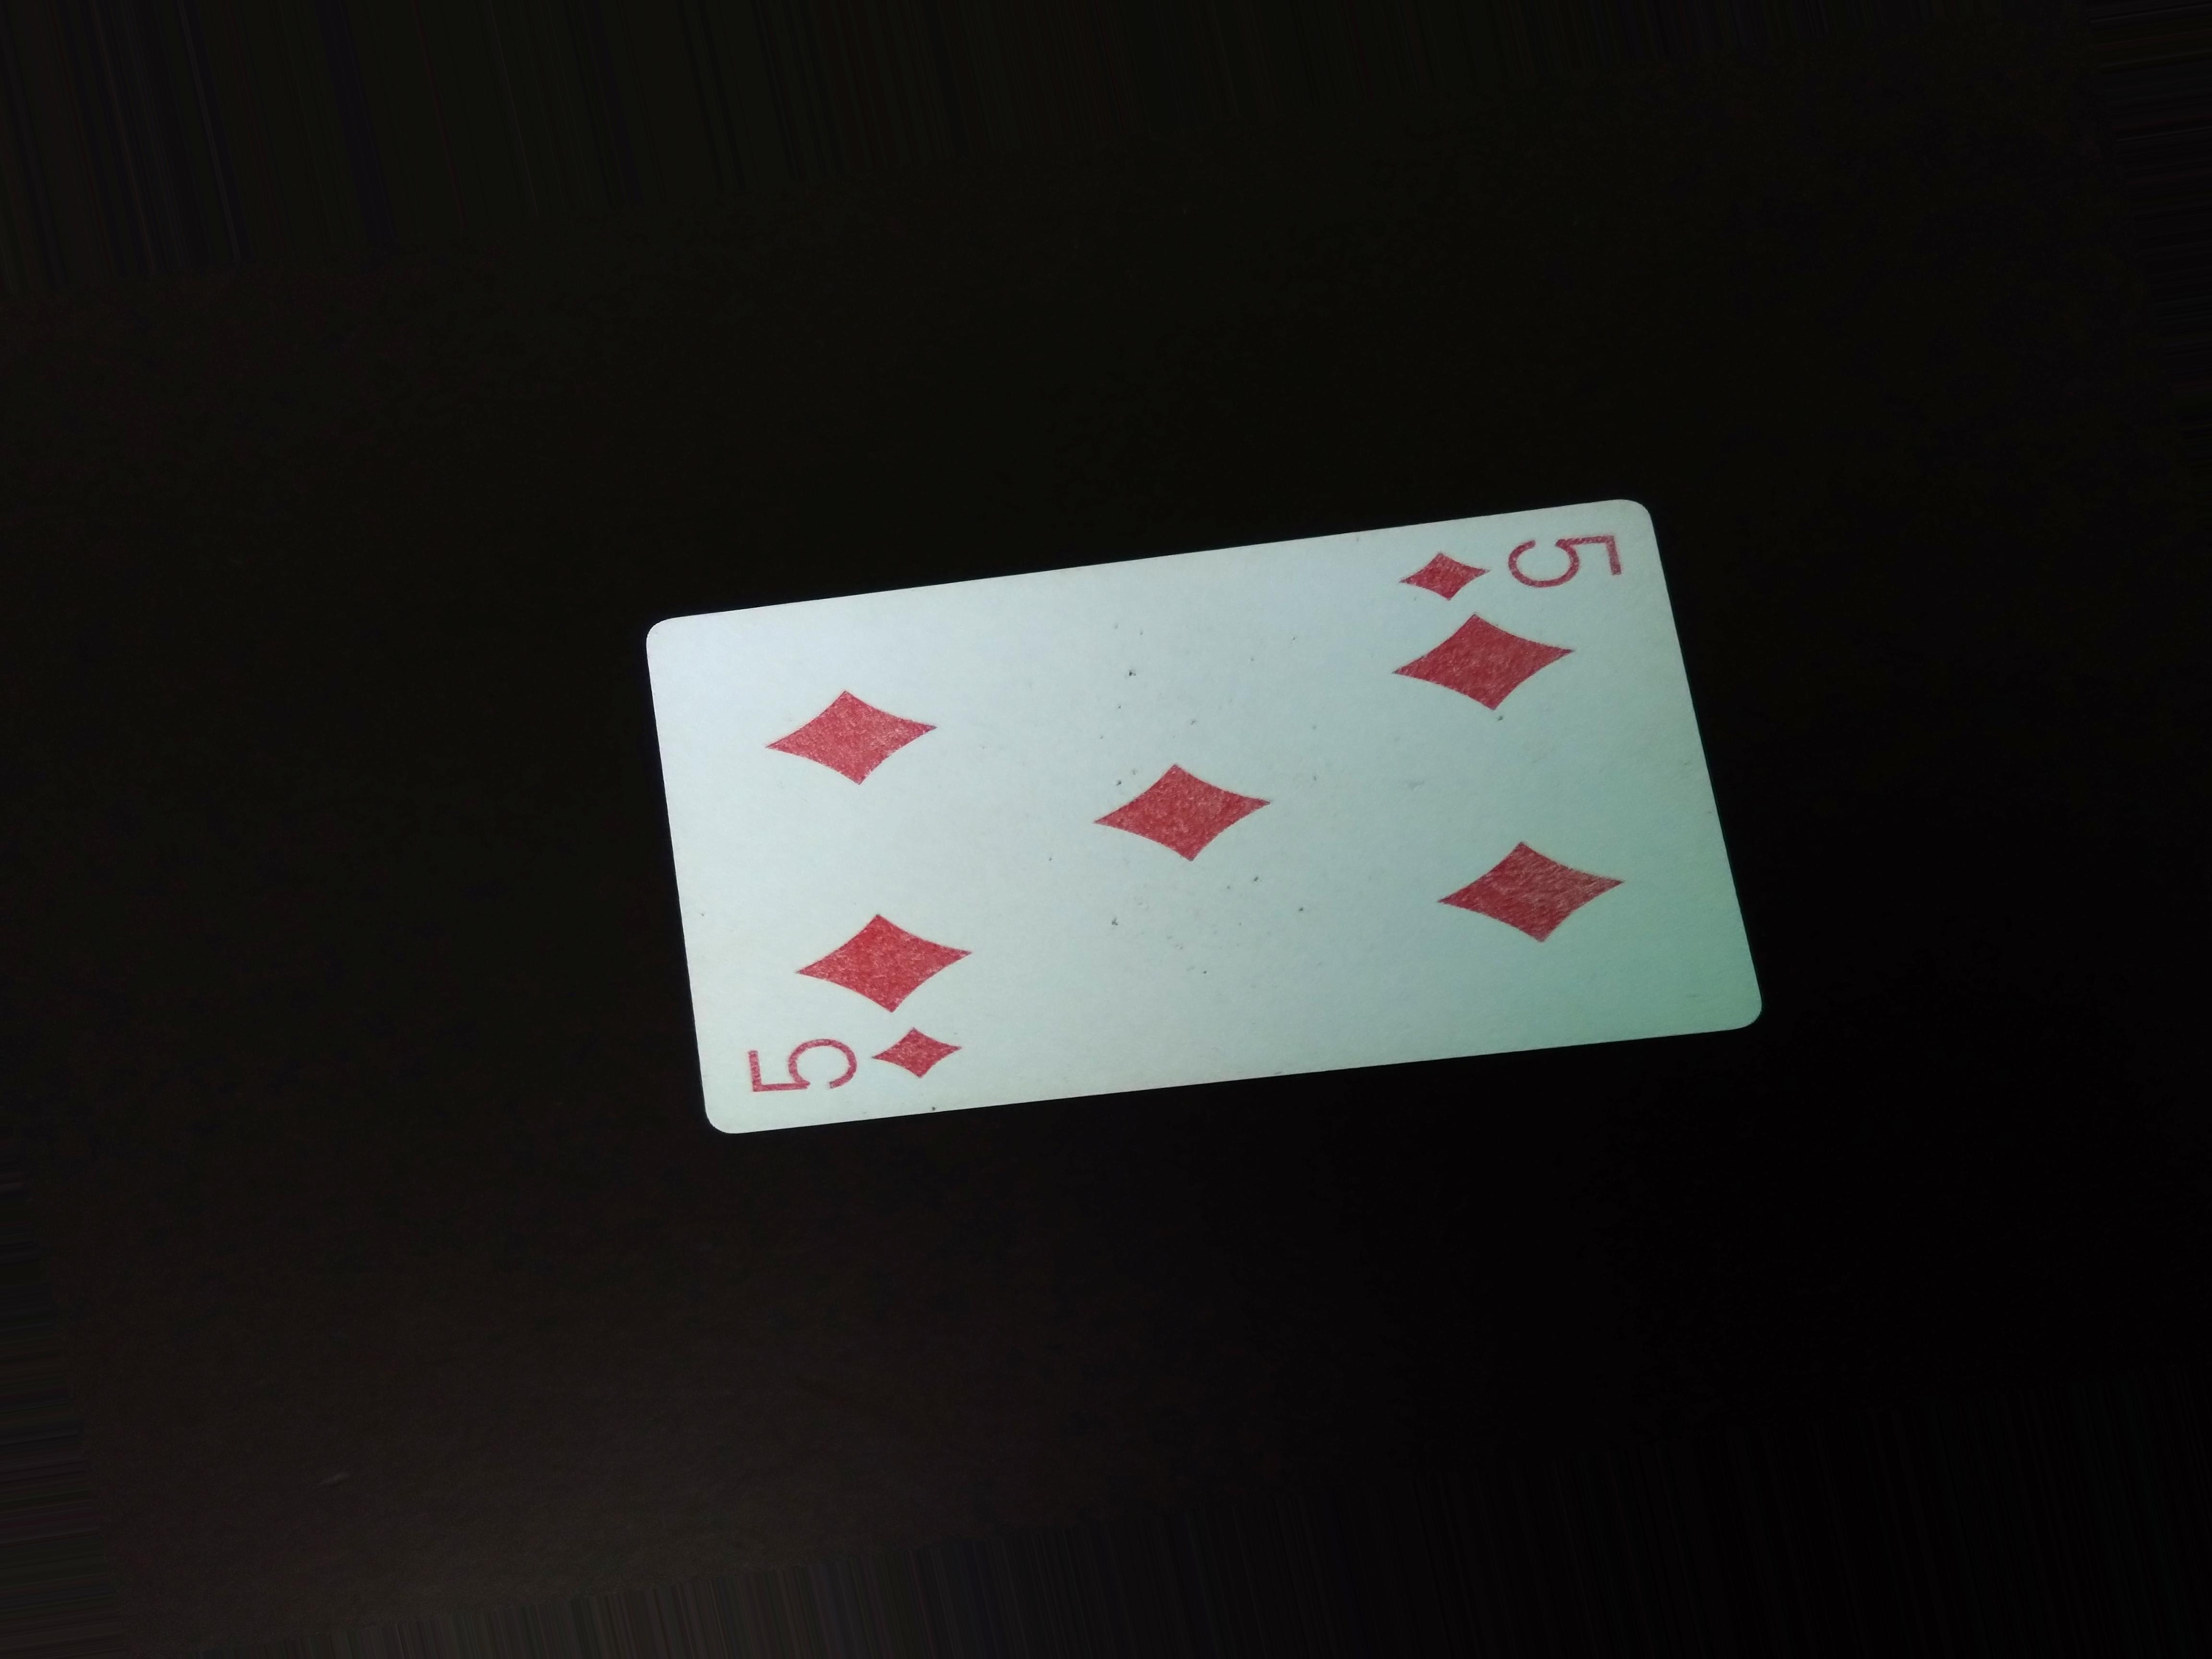5D: (725, 1018, 977, 1105)
